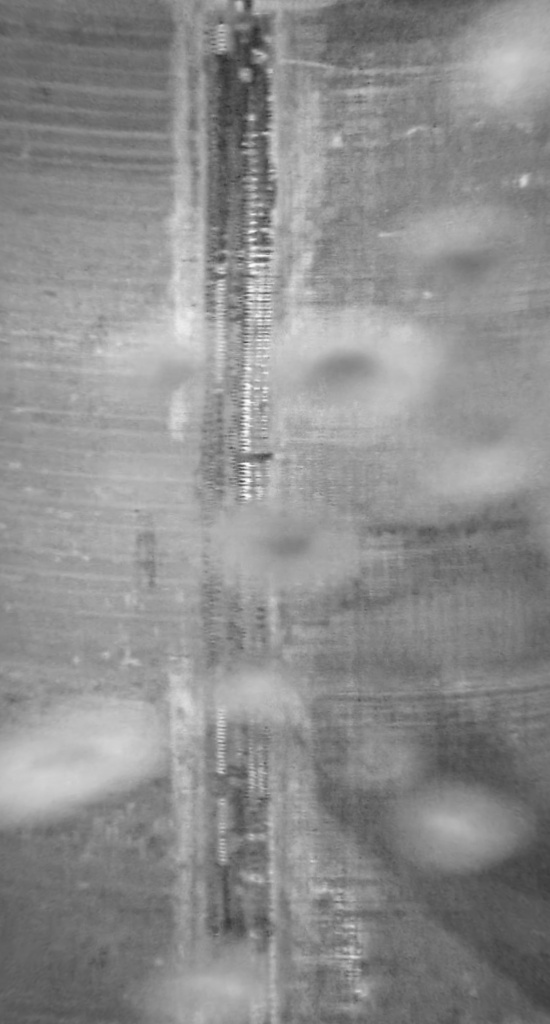splice: (186, 1, 283, 1021)
